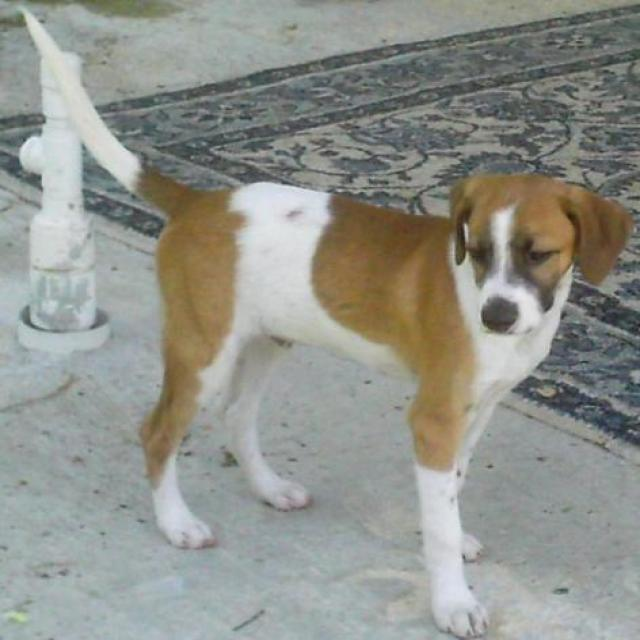Dogs: (15, 5, 634, 639)
